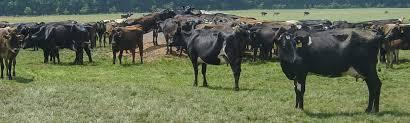cow: (276, 29, 385, 112), (172, 29, 247, 90), (25, 23, 96, 62), (106, 28, 148, 65), (0, 26, 26, 79)
